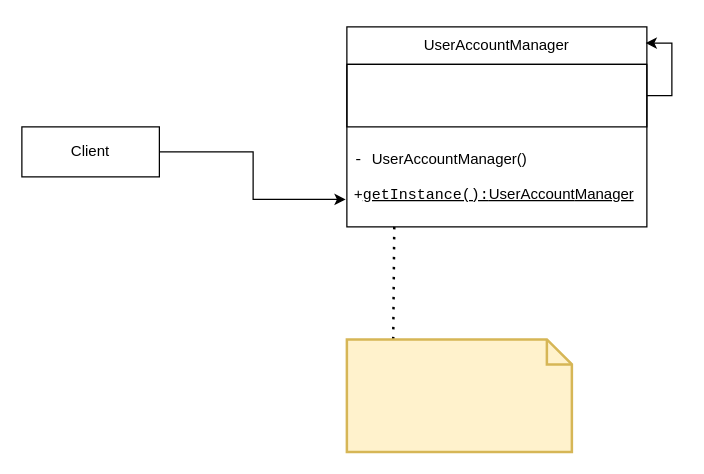
Some shapes in this 704 by 474 pixel diagram are drawn without their labels. Each missing label, with the centre of its shape:
"- instance: UserAccount Manager" goes at [496,95].
"if (instance == null) { instance = new UserAccountManager(); } return instance;" goes at [458,395].
